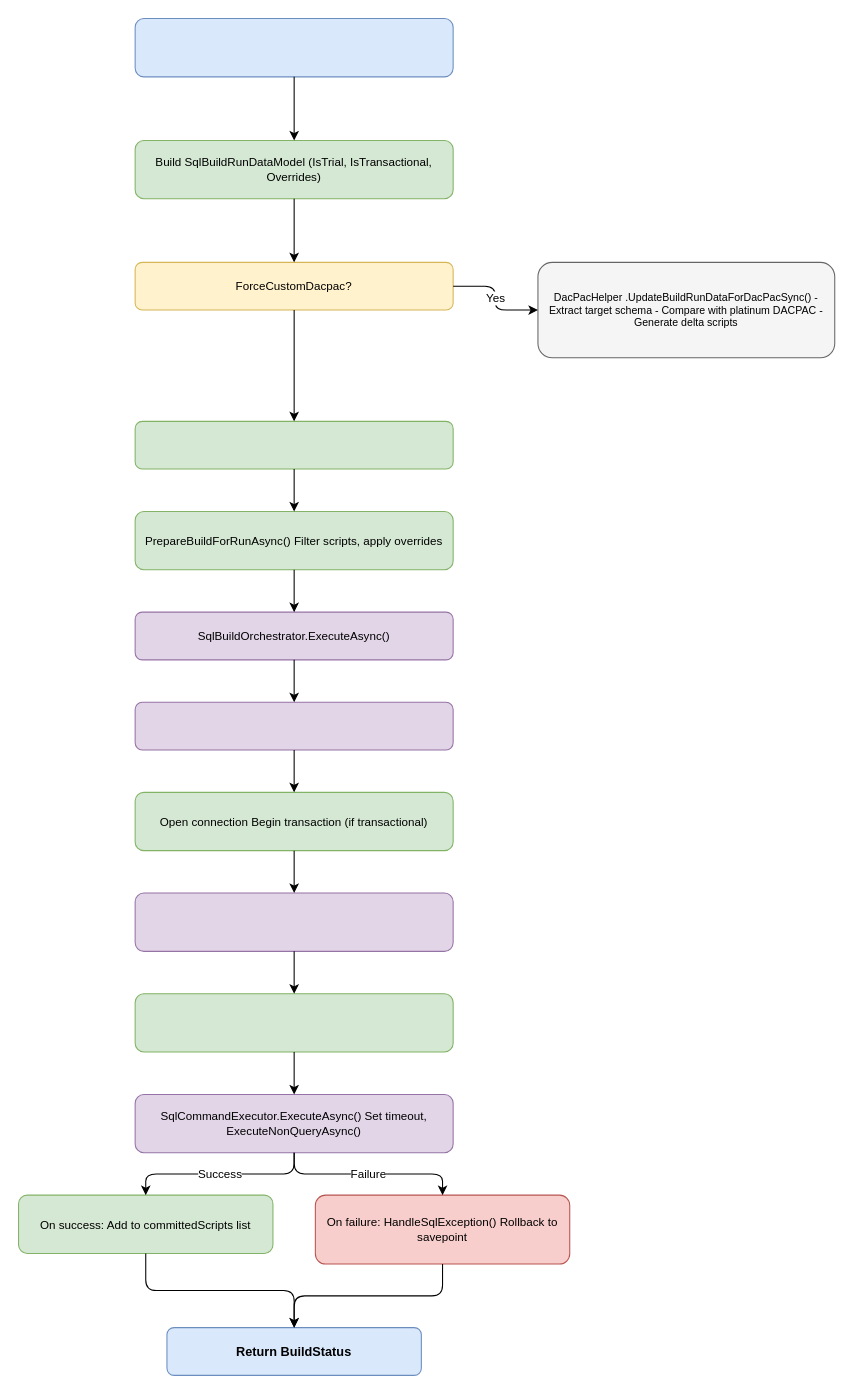
Image size: 853x1394. Some labels were removed from this diagram. The box of each missing label's shape, as (x1, y1, x2, y2) in pixels:
Create savepoint (for rollback granularity): (134, 993, 453, 1052)
For each script in batch collection:: (134, 892, 453, 951)
SqlBuildHelper.ProcessBuildAsync(): (134, 420, 453, 469)
SqlBuildRunner.RunAsync(): (134, 701, 453, 750)
ThreadedRunner .RunDatabaseBuildAsync(): (134, 17, 453, 77)
